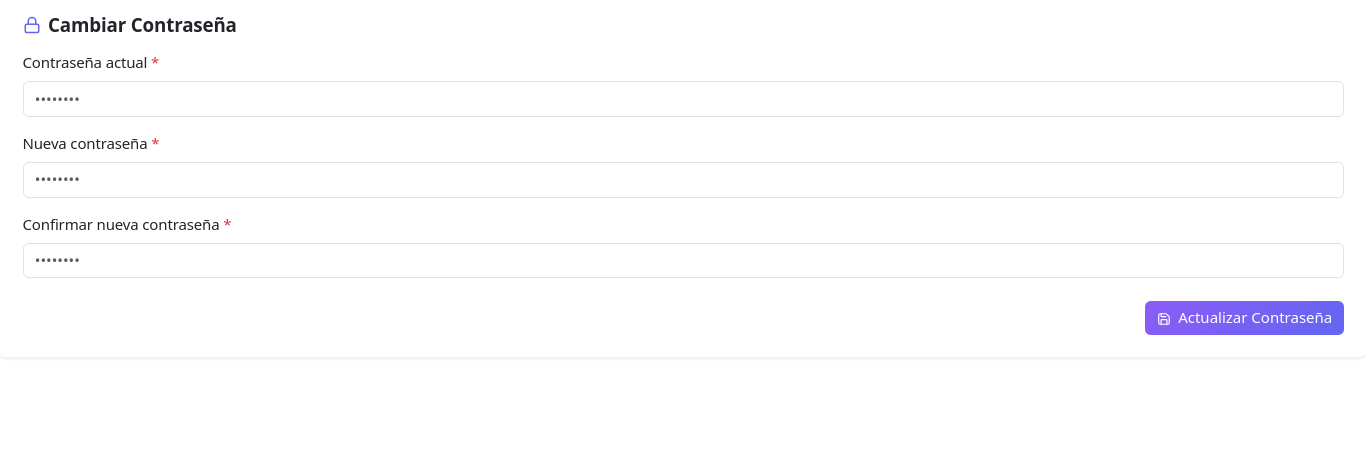
Test: ChangePasswordCard › muestra error si la confirmación no coincide
This screenshot has width=1366, height=451.
Type "actual1" into the password field with placeholder "••••••••" below "Contraseña actual" at point(683, 99), box x1=22 y1=81 x2=1344 y2=117
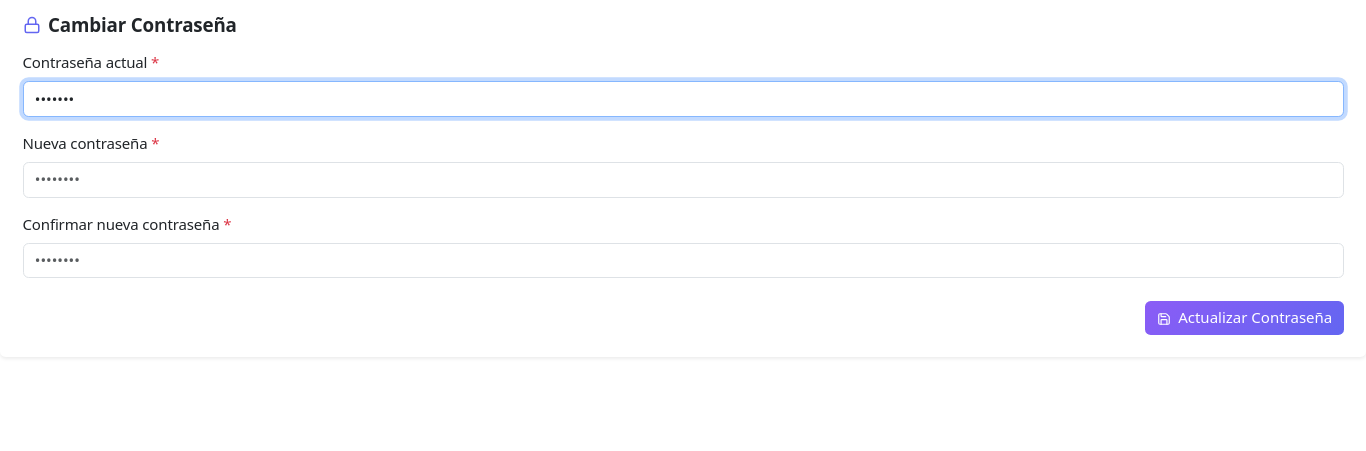
Type "nueva123" into the 1st password field with placeholder "••••••••" at point(683, 180), box x1=22 y1=162 x2=1344 y2=198
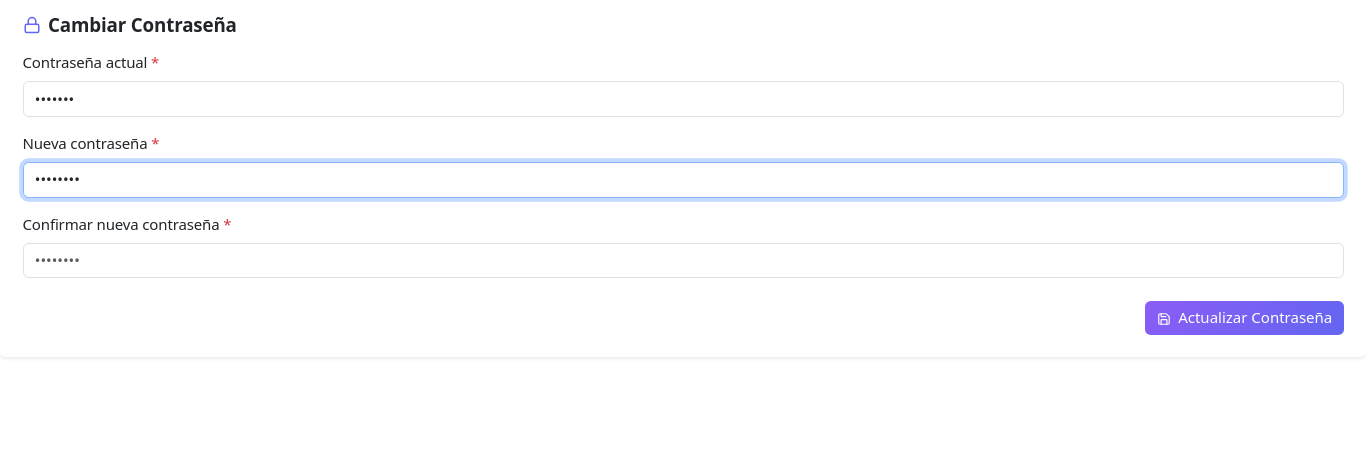
Type "otra456" into the password field with placeholder "••••••••" at point(683, 260), box x1=22 y1=242 x2=1344 y2=278
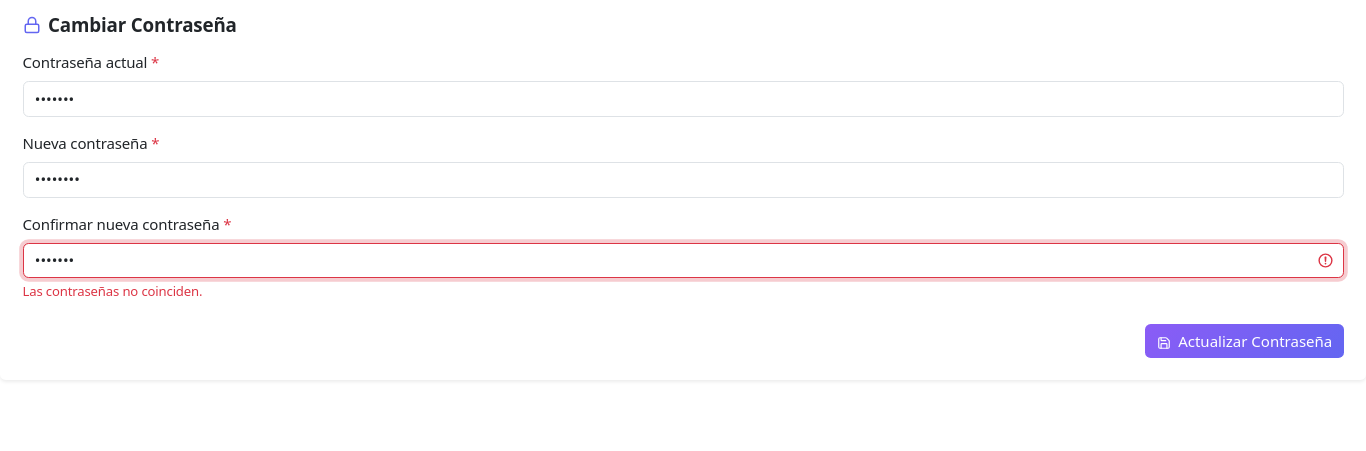
Click the button "Actualizar Contraseña" at point(1244, 341), box x1=1145 y1=324 x2=1344 y2=358
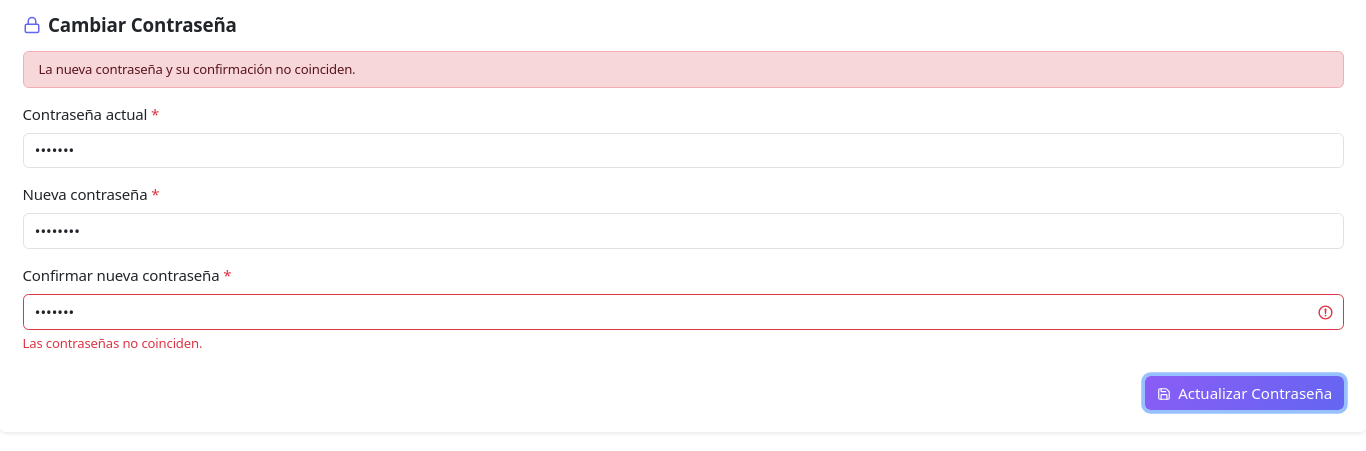
Result: the text "La nueva contraseña y su confirmación no coinciden." is shown at x1=22 y1=51 x2=1344 y2=88
